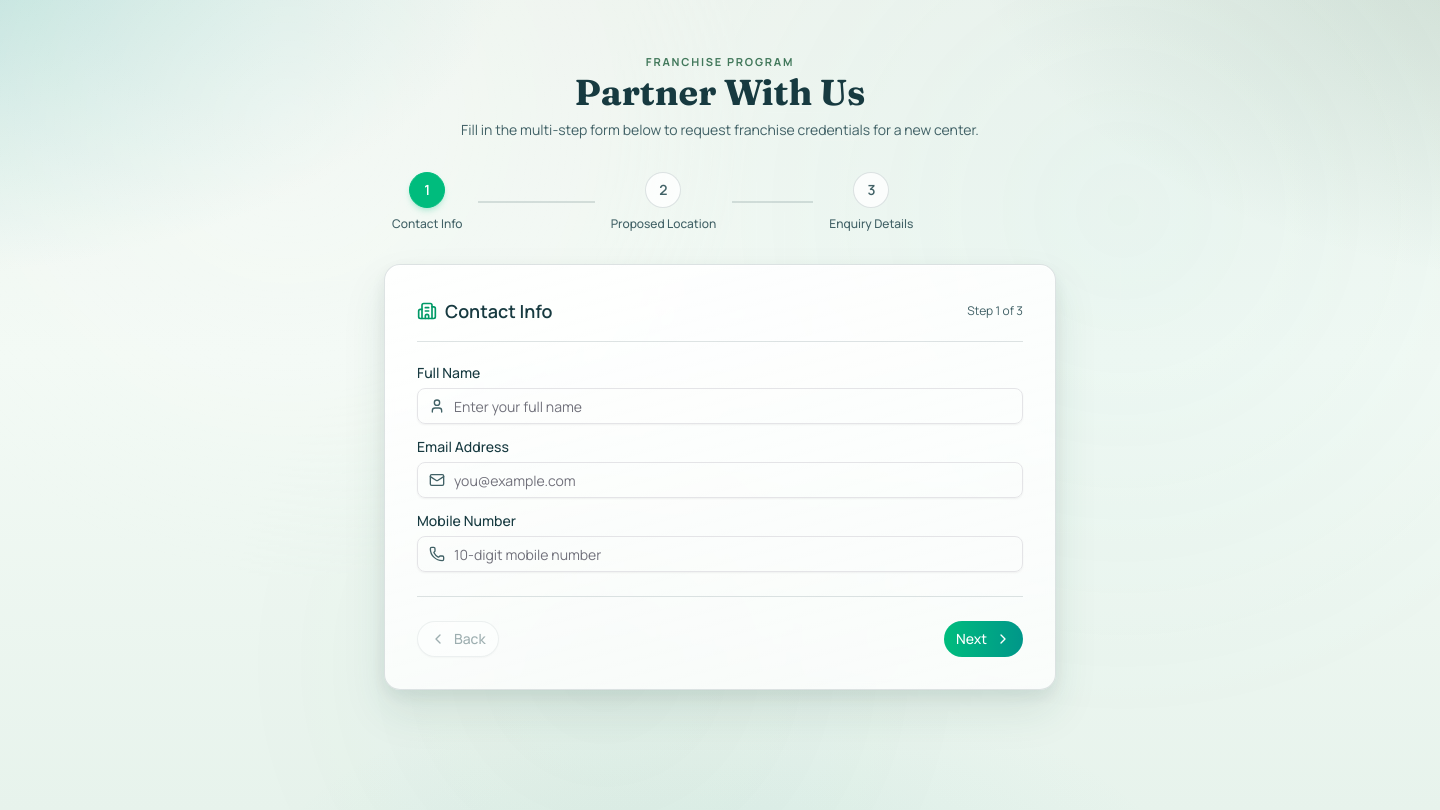
Test case: FranchiseEnquiryPage Integration Tests › should block navigation and show error if step 1 inputs are invalid (Negative Test)
The image size is (1440, 810).
Click the button "Next" at (984,639), box [944,621,1023,657]
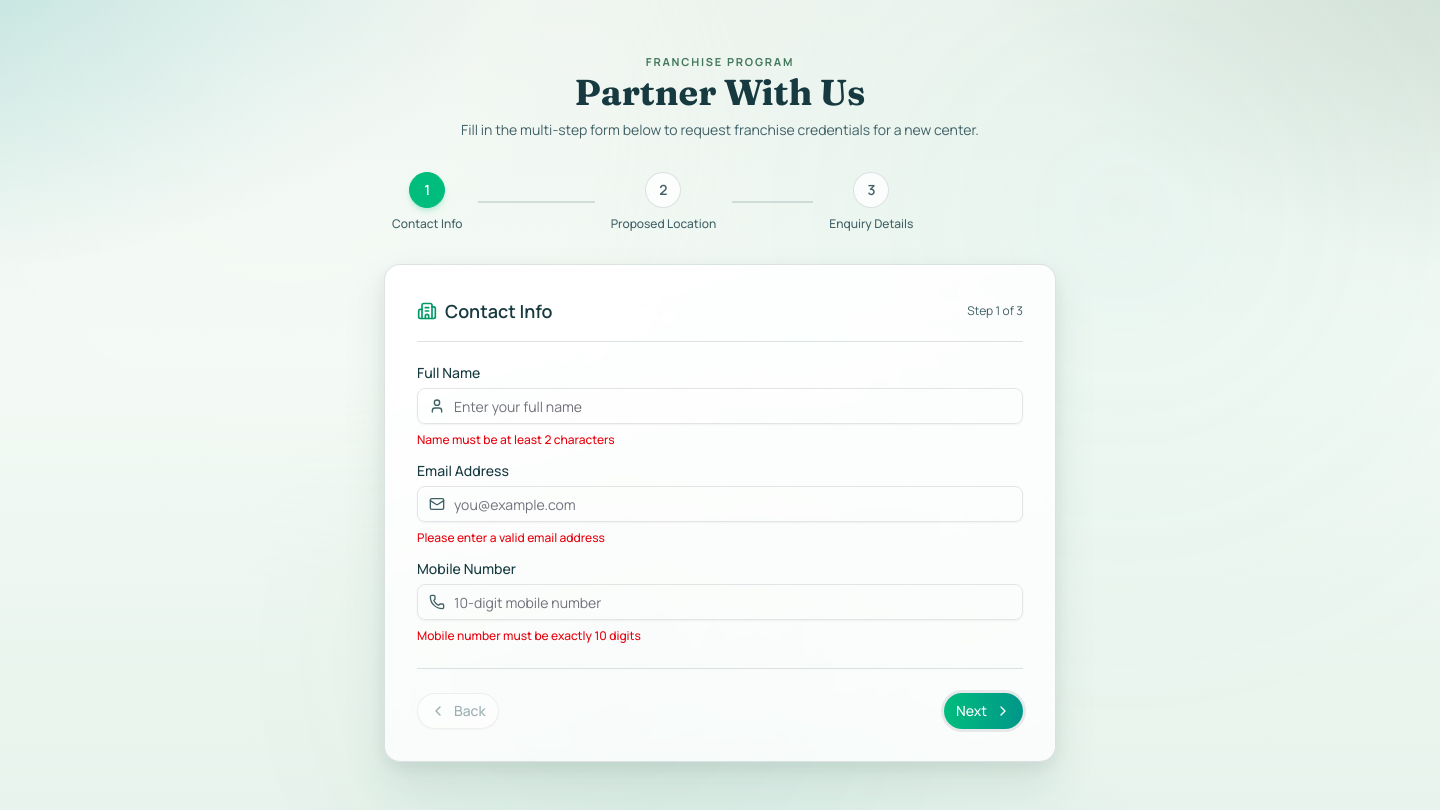
Expected: the text "Name must be at least 2 characters" is shown, [417,431,615,448]
Expected: the text "Please enter a valid email address" is shown, [417,529,605,546]
Expected: the text "Mobile number must be exactly 10 digits" is shown, [417,627,641,644]
